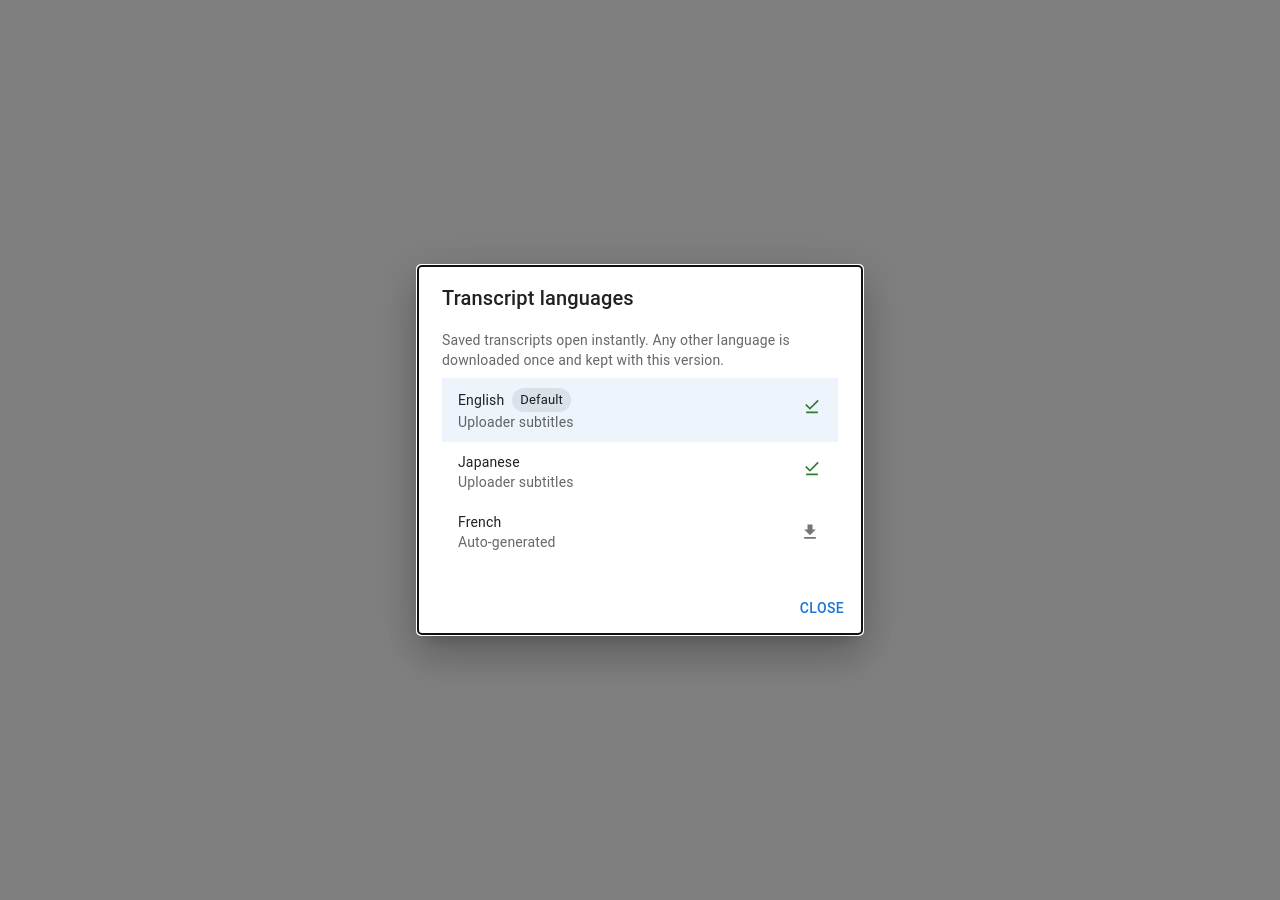
Test: TranscriptLanguagesDialog › the download icon saves a language without switching to it
The width and height of the screenshot is (1280, 900).
Click the button named "Download French".
click(810, 532)  # box left=795, top=517, right=825, bottom=547
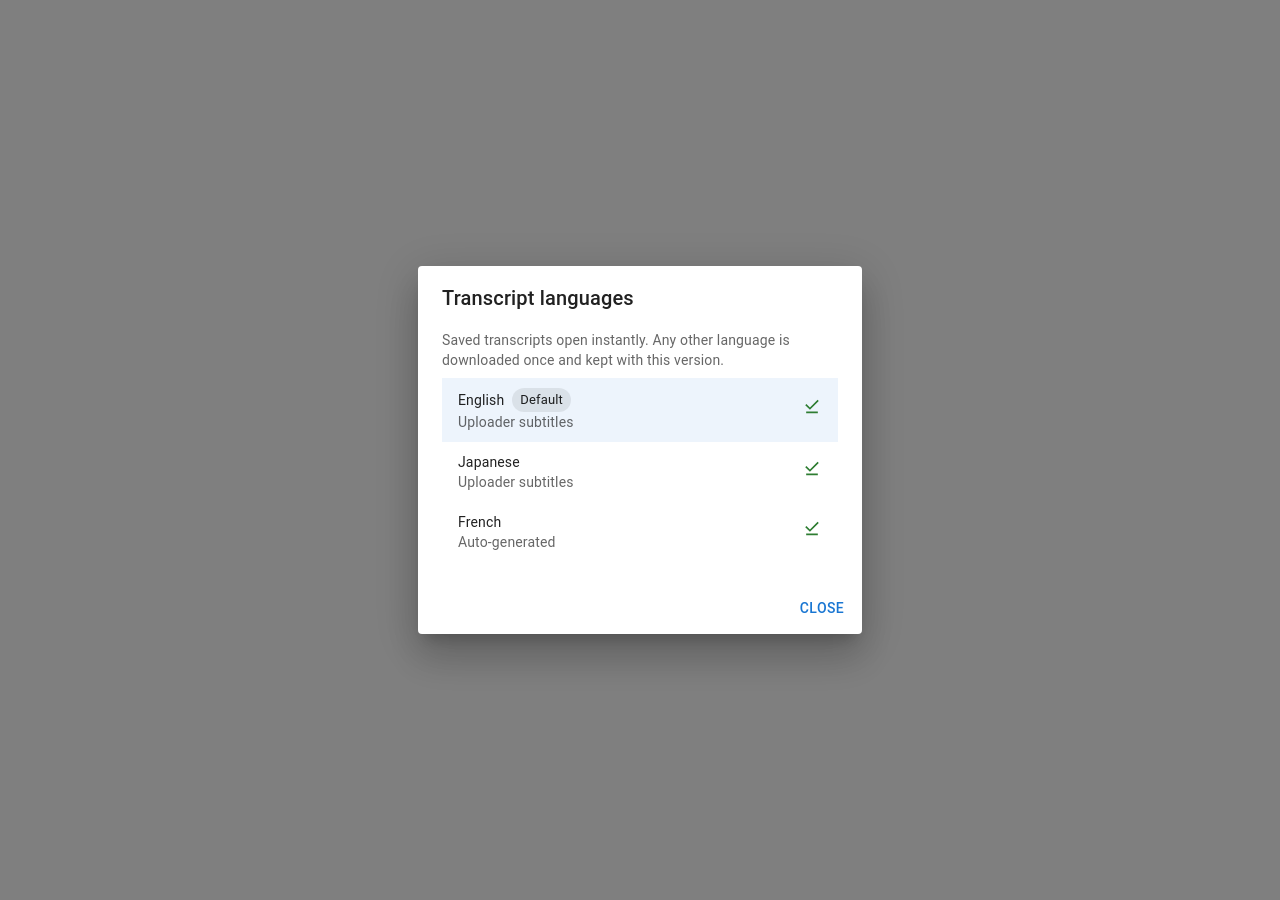
Result: the icon named "French is saved" is shown at left=802, top=518, right=822, bottom=538
